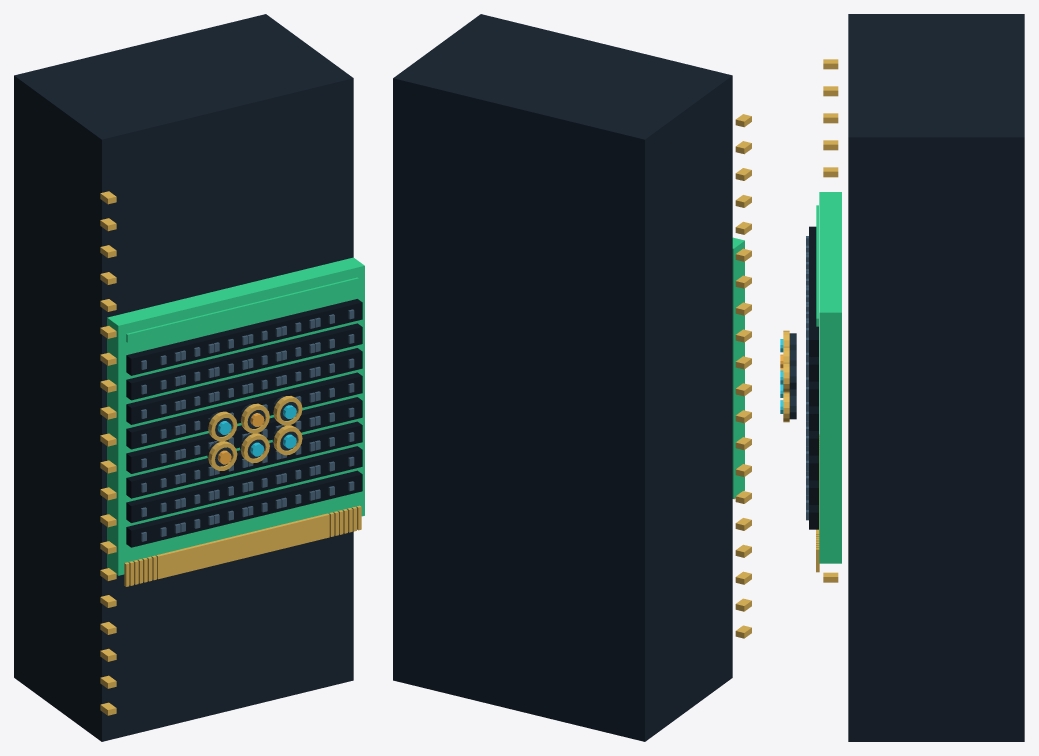
File: 15_L81_ECCMemoryBankA.fbx
The picture shows the model from 3 angles, left to right: view 1: azimuth 30°, elevation 25°; view 2: azimuth 150°, elevation 25°; view 3: azimuth 270°, elevation 25°; orthographic projection.
Parts seen in each view (by area): view 1: ECCMemoryBankA; view 2: ECCMemoryBankA; view 3: ECCMemoryBankA.
Part boxes in pixels (x1,y1,x2,y2): ECCMemoryBankA: [14, 14, 364, 741]; ECCMemoryBankA: [393, 14, 751, 741]; ECCMemoryBankA: [780, 14, 1024, 741].
Size of the model in its own units: 119 by 265 by 97.05.
